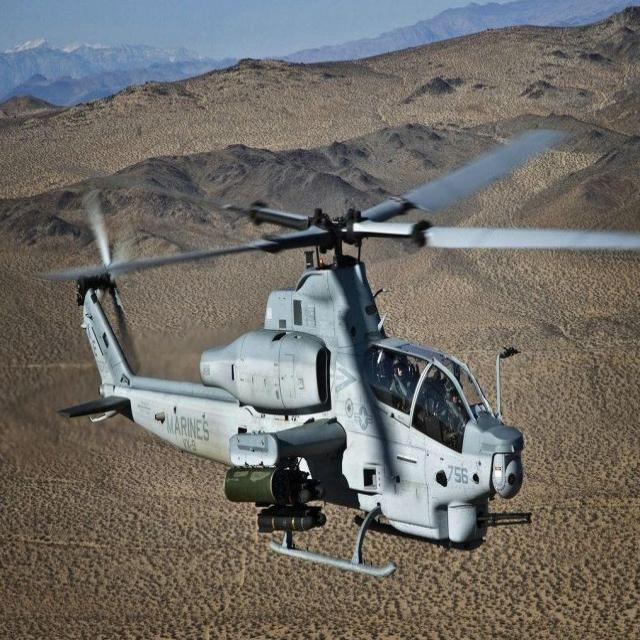MIL_HELO: (48, 122, 640, 588)
